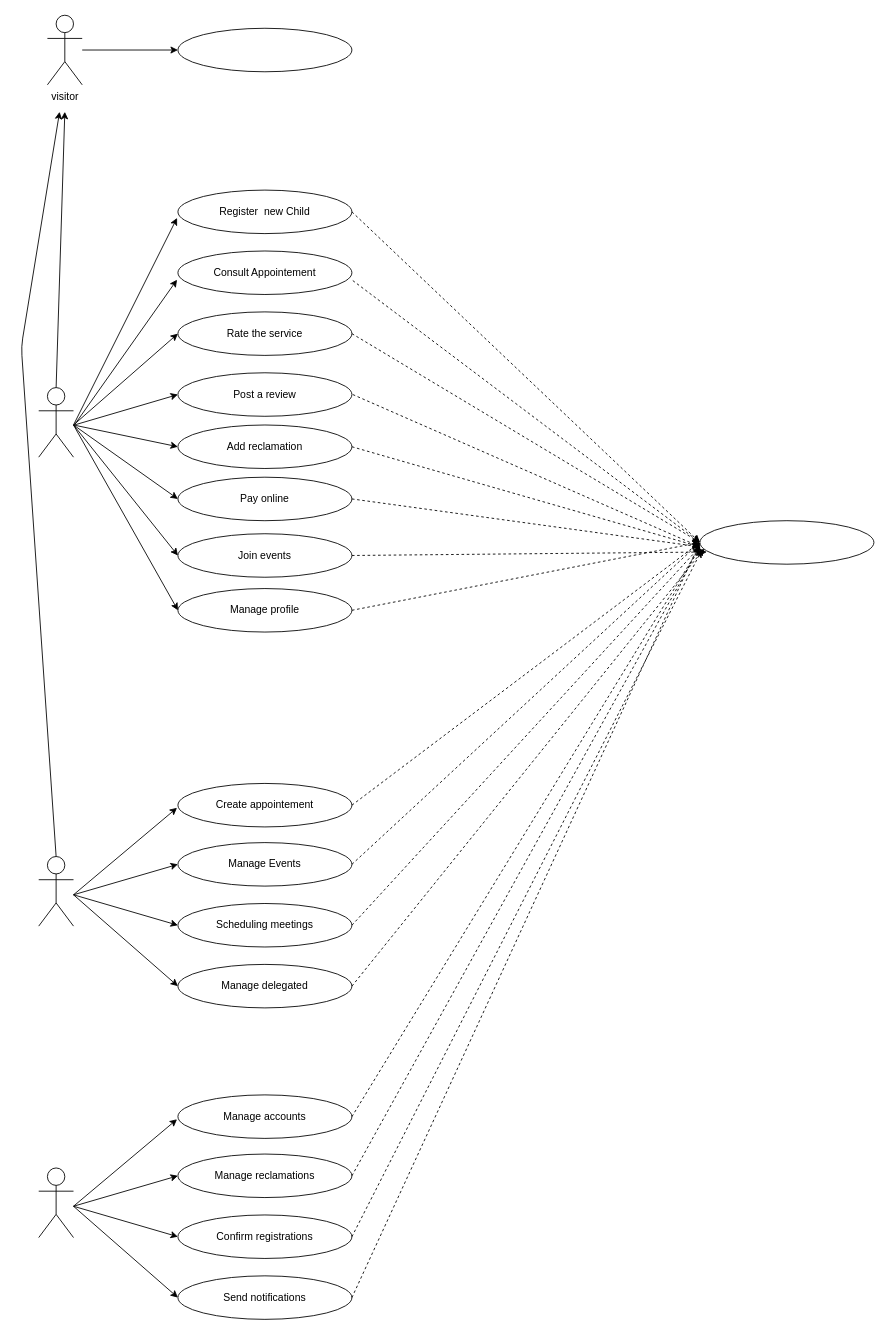
Some shapes in this 889 by 1335 pixel diagram are drawn without their labels. The centre of each missing label's shape, as x and y in pixels:
"Admin" belongs at point (56, 1202).
"Authentificate" belongs at point (786, 542).
"KInderGarden" belongs at point (56, 891).
"Parent" belongs at point (56, 422).
"Registe child" belongs at point (264, 49).
